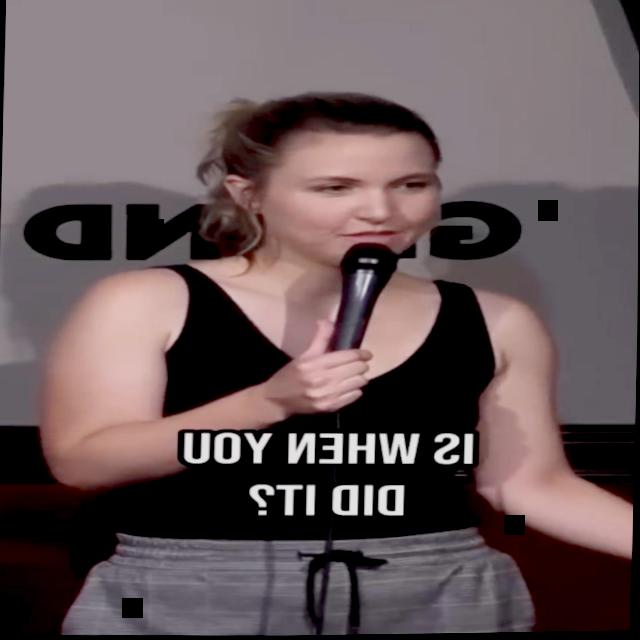NO-Mask: (250, 137, 447, 273)
